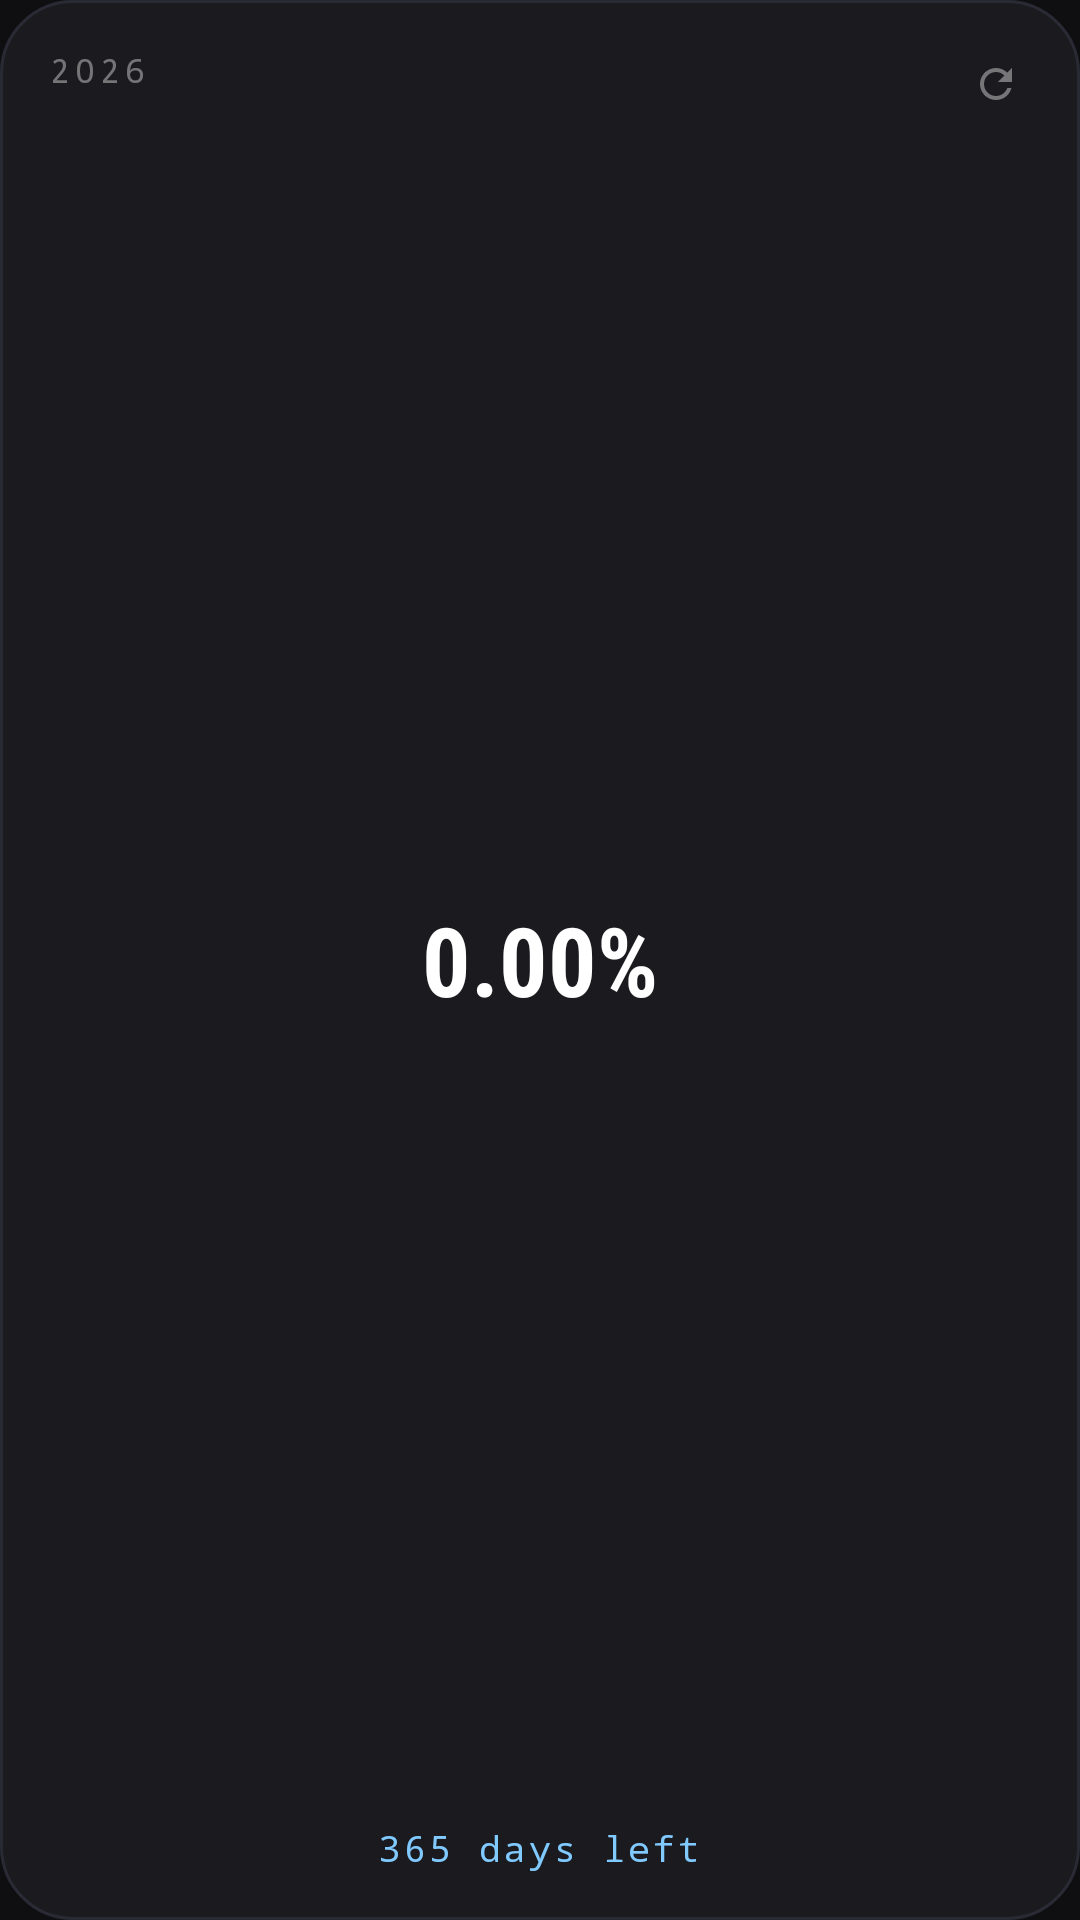

Where icons sit on this 1080*1920 app screen, as bbox=(x1, y1, x2, y2):
Refresh: bbox=(980, 68, 1012, 100)
